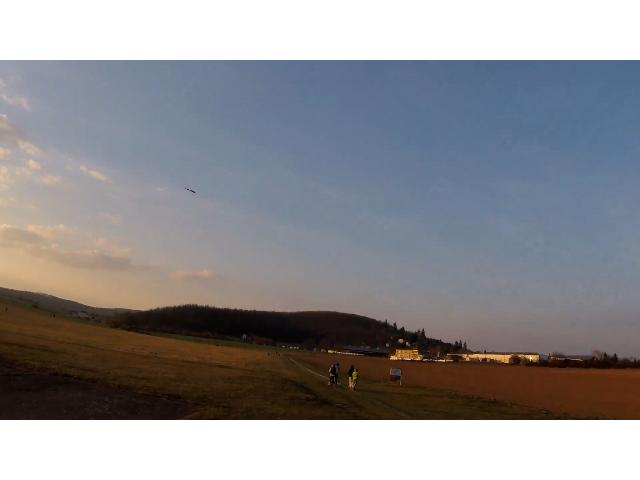Anti-Drone: (186, 189, 196, 193)
